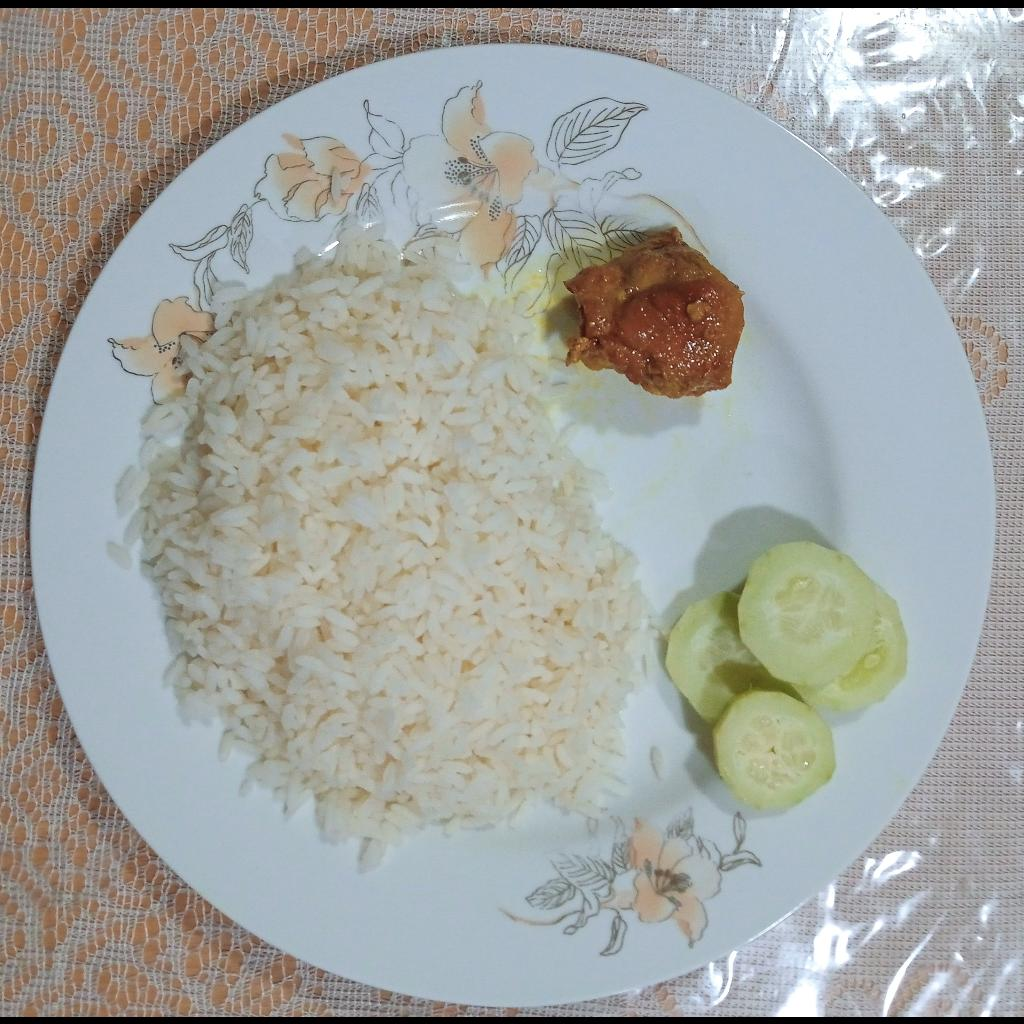chicken: (562, 223, 746, 398)
cucumber: (665, 535, 911, 812)
rice: (104, 220, 662, 879)
